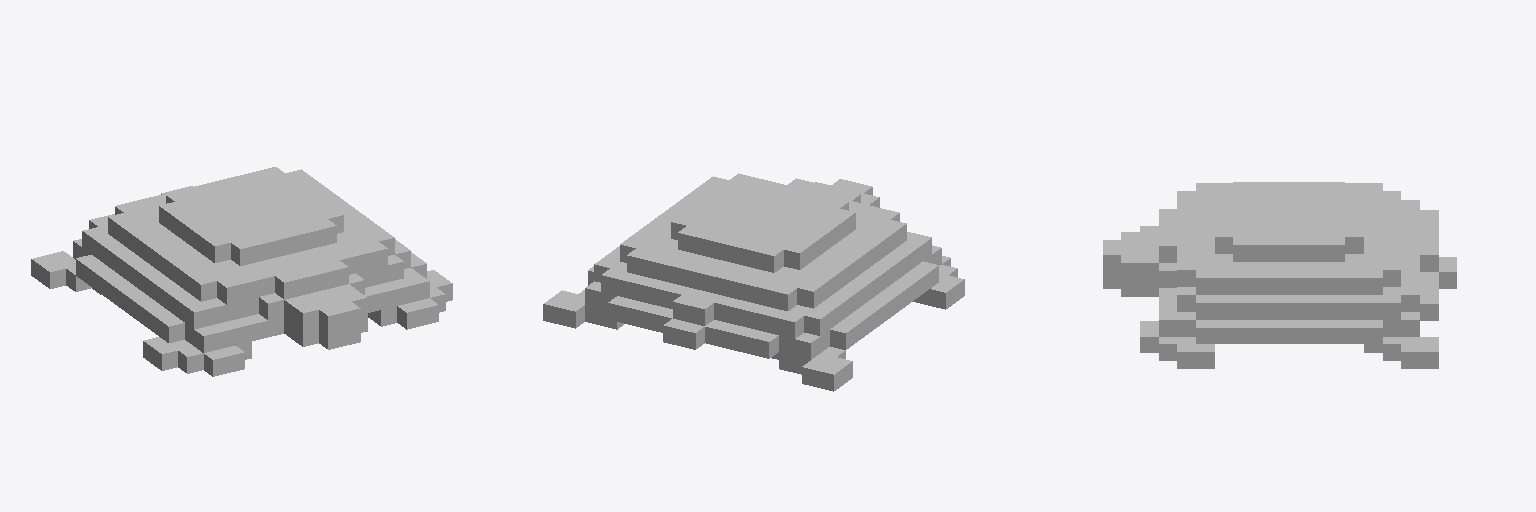
The model's file is turtle.obj.
3 views of the same model, side by side, from view 1: azimuth 30°, elevation 25°; view 2: azimuth 150°, elevation 25°; view 3: azimuth 270°, elevation 25° (orthographic).
Bounding box in the file's own units: 18 × 5 × 19.